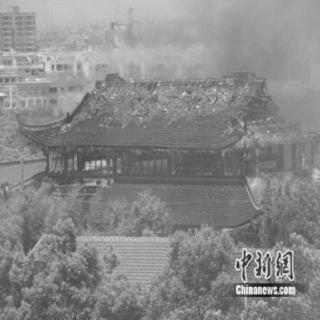Fire: (77, 171, 117, 188), (296, 150, 317, 182), (232, 120, 254, 148), (246, 168, 270, 192), (60, 120, 69, 134)
Smoke: (232, 21, 308, 75)
other: (66, 233, 177, 285), (230, 243, 298, 283)
